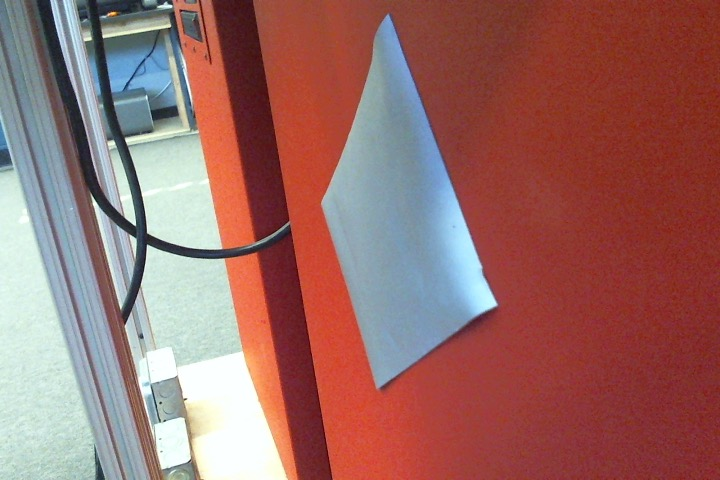Tape: (321, 14, 500, 390)
